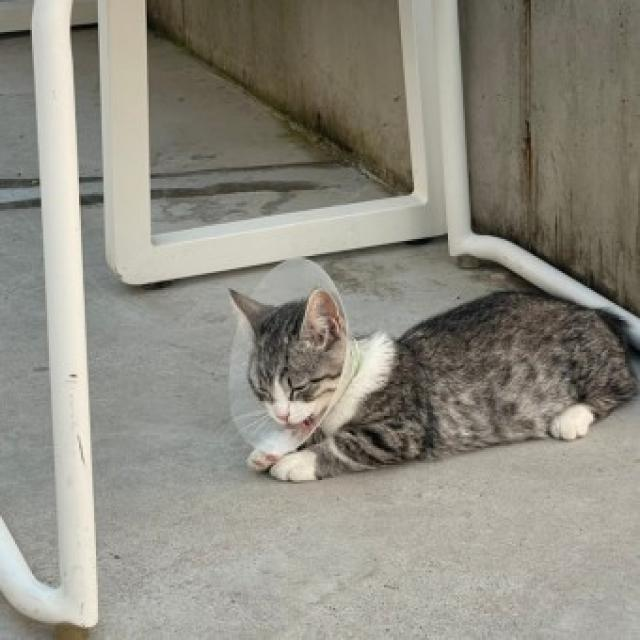cat: (210, 253, 640, 484)
